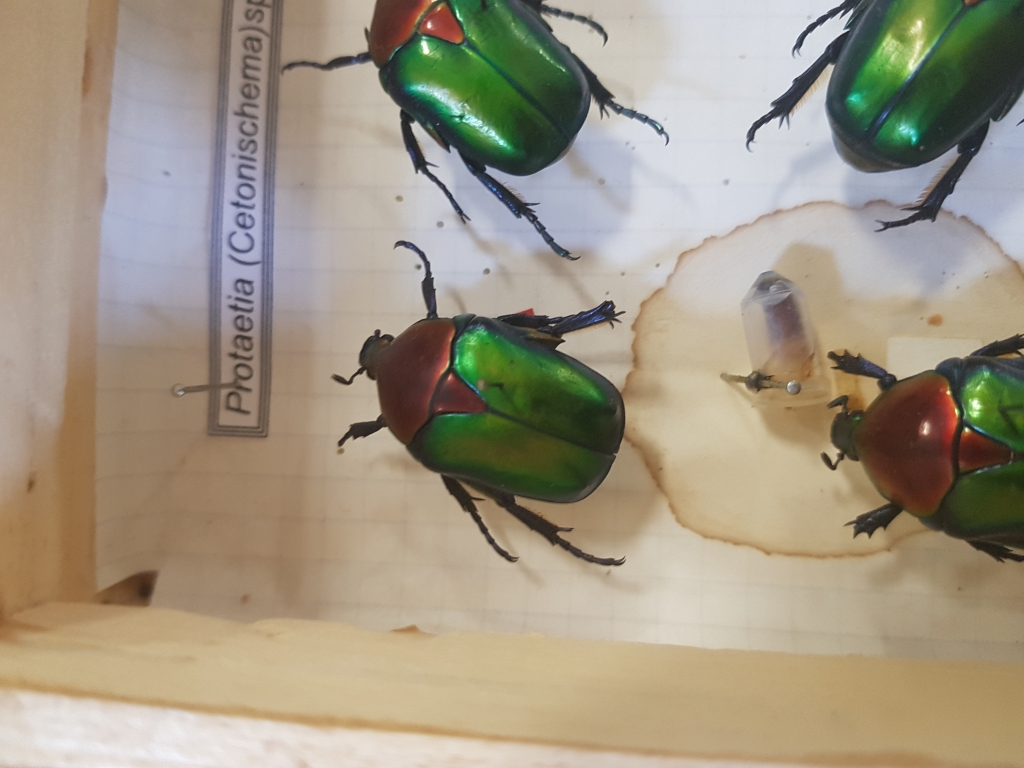Protaetia_speciosa_jousseliniw: (318, 226, 653, 592)
